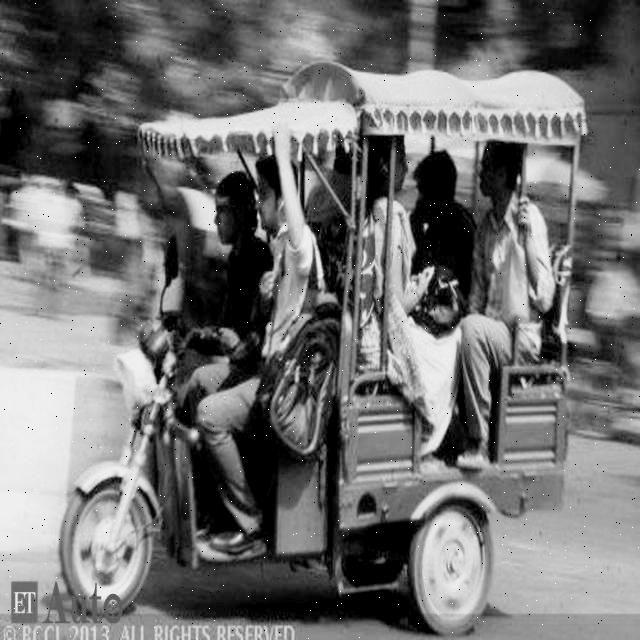Toto: (65, 66, 586, 616)
